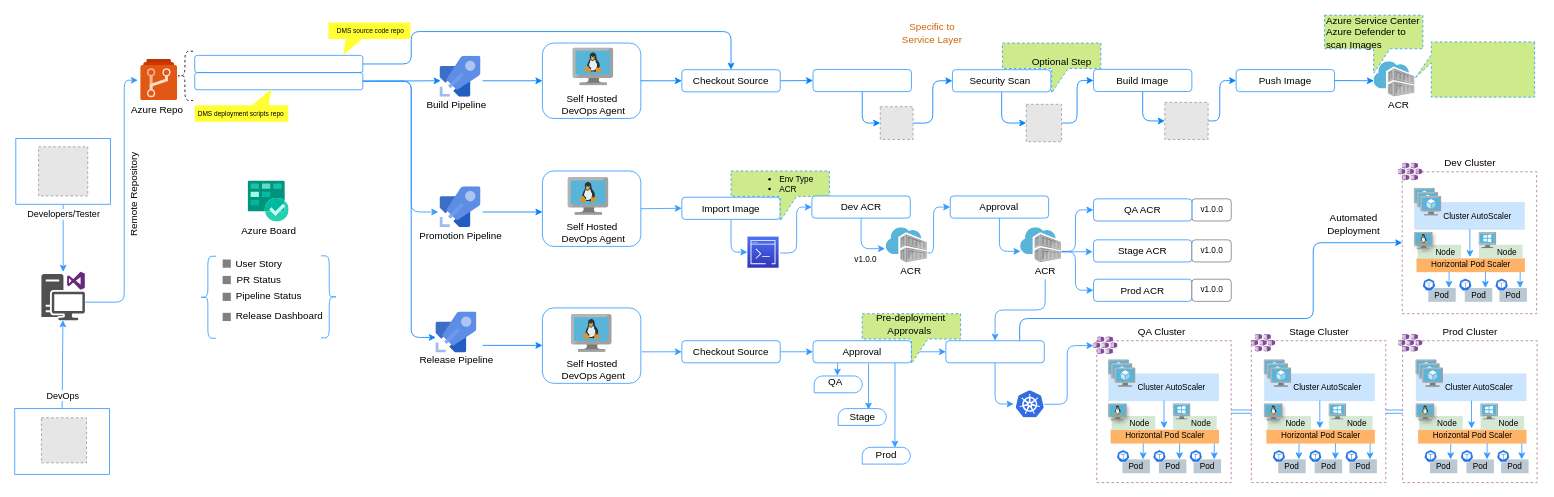
Image size: 1554x497. Some labels were removed from this diagram. Grey dashed boxes stand in for pictures. The shapes that lost their labels are listed below. From the top down, each one's centre as x and y in pixels, then its label:
At point (278, 64): "DMS Service APIs".
At point (278, 81): "DMS Automation".
At point (861, 80): "Build Project".
At point (1474, 69): "dms-svc/upload:1.0.0 dms-svc/storage:1.0.1 : dms-svc/search:1.1.0".
At point (994, 351): "Kubectl".
